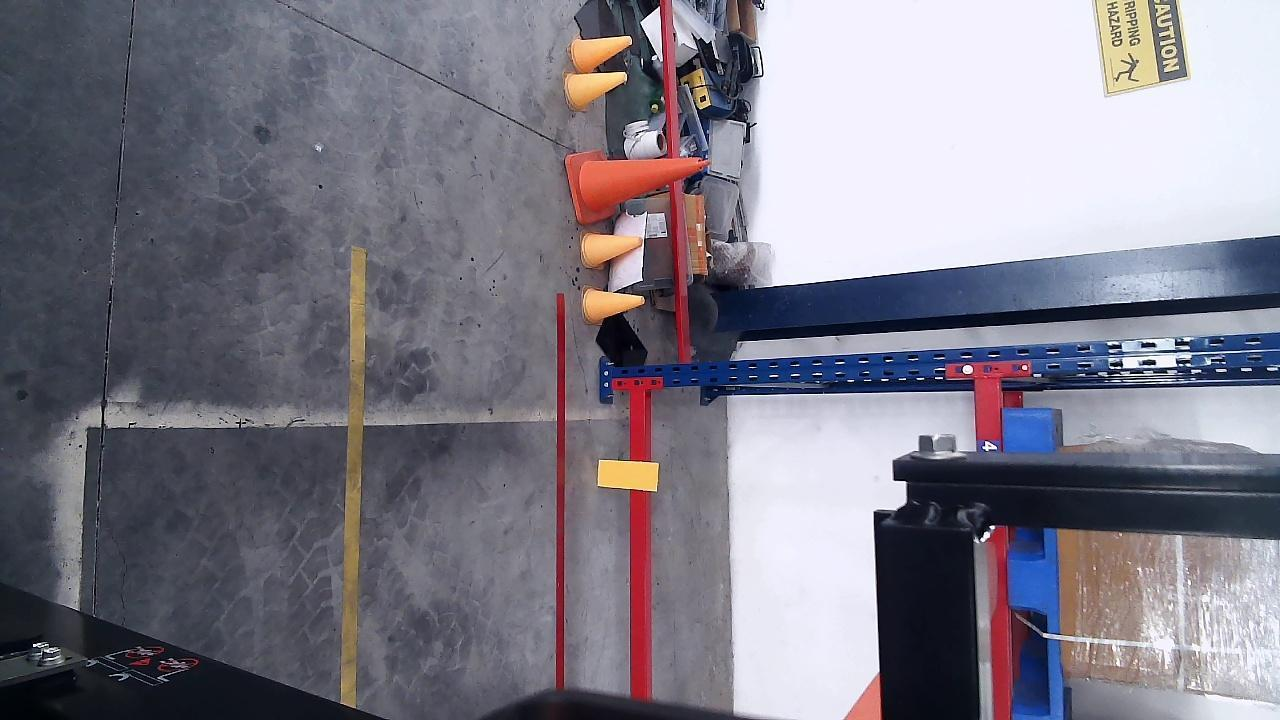red_line: (556, 292, 564, 688)
yellow_line: (339, 245, 367, 708)
